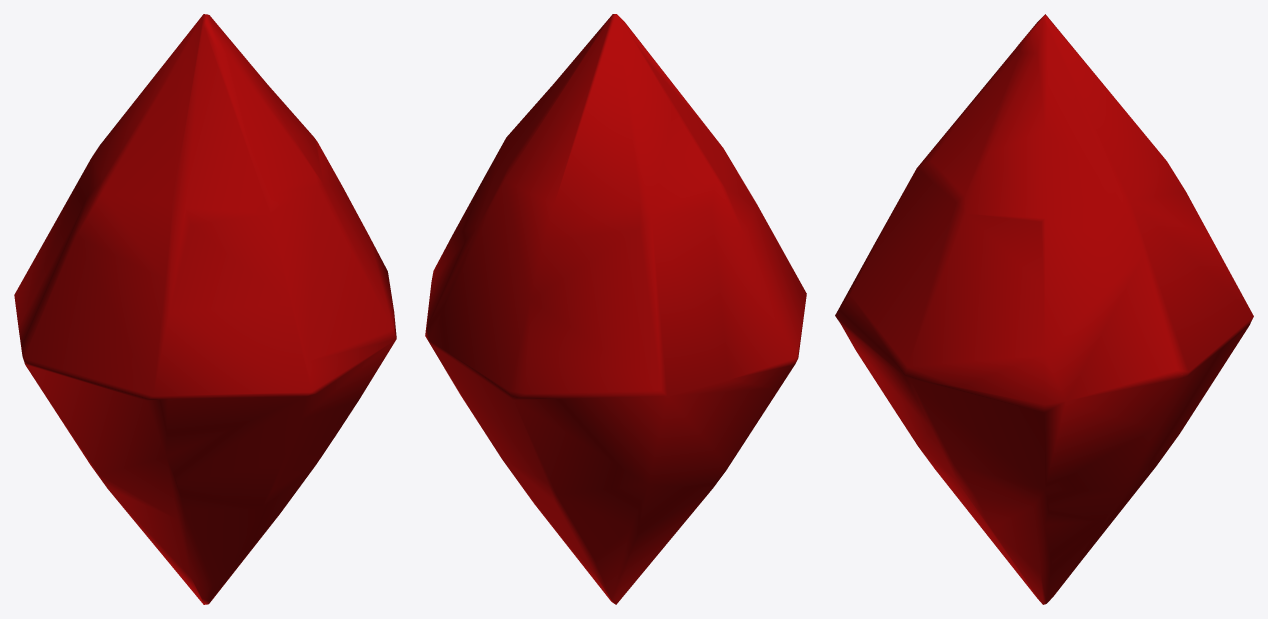
File: gen3d-fire-gem-lod1.glb
The picture shows the model from 3 angles, left to right: view 1: azimuth 30°, elevation 25°; view 2: azimuth 150°, elevation 25°; view 3: azimuth 270°, elevation 25°; orthographic projection.
Visible parts, largest first — view 1: part_0; view 2: part_0; view 3: part_0.
Boxes of the visible parts, x1,y1,x2,y2 form: part_0: (14,14,396,604); part_0: (425,14,806,604); part_0: (835,14,1253,604).
Bounding box in the file's own units: 0.6421 × 0.9976 × 0.6423.
